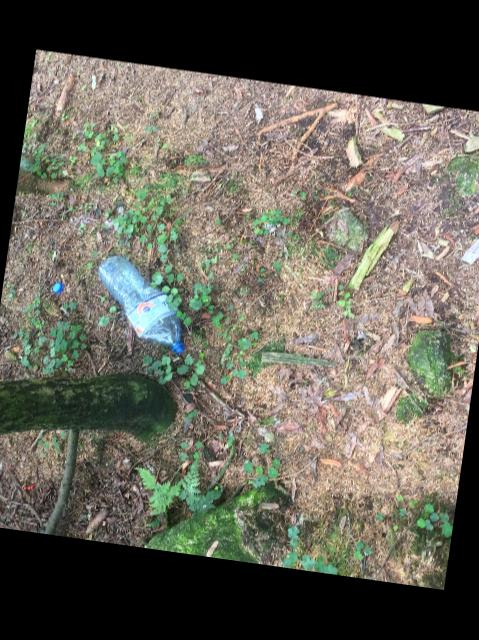plastic: (97, 256, 184, 354), (51, 282, 63, 294)
